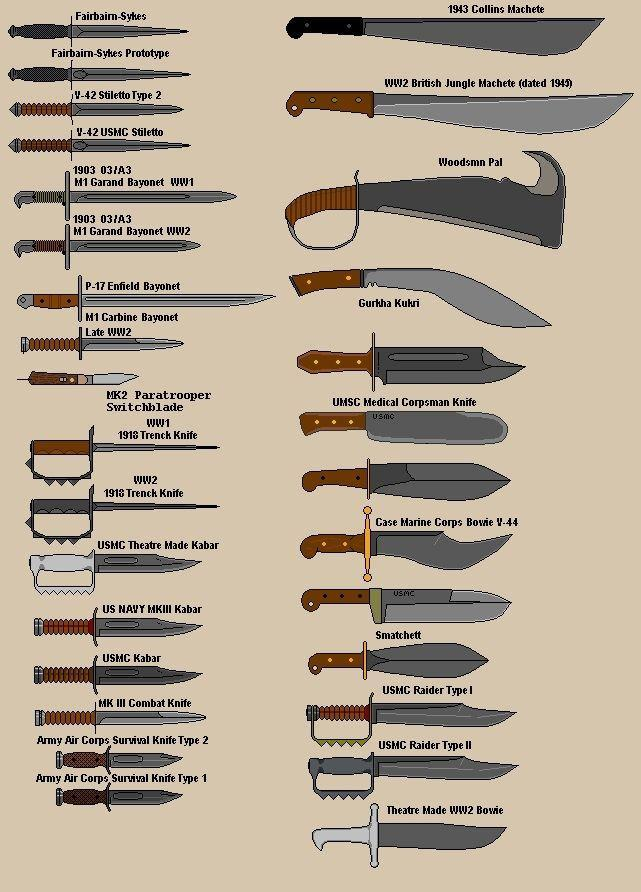espada: (17, 276, 273, 322)
faca: (300, 506, 510, 578), (297, 333, 524, 391), (312, 804, 505, 868), (27, 484, 218, 543), (14, 172, 236, 220), (26, 428, 218, 482), (306, 697, 515, 745), (309, 753, 516, 799), (301, 460, 509, 501), (14, 224, 200, 269), (302, 589, 509, 624), (308, 642, 487, 679), (36, 611, 202, 642), (22, 328, 182, 359), (34, 661, 201, 685), (29, 553, 200, 574), (57, 747, 181, 772), (9, 23, 186, 39), (9, 67, 189, 82), (36, 710, 204, 726), (10, 102, 183, 117), (58, 789, 180, 810), (9, 139, 188, 152), (28, 373, 136, 385)
facao: (286, 151, 564, 250), (286, 75, 632, 134), (290, 268, 550, 328), (286, 17, 603, 56), (300, 410, 507, 445), (358, 294, 419, 308), (450, 4, 542, 13)
